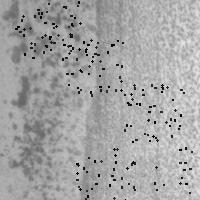pitted_surface: (97, 1, 199, 200), (8, 1, 91, 179), (63, 34, 122, 94), (124, 84, 183, 141), (22, 1, 79, 58), (15, 3, 71, 57), (76, 148, 134, 200), (154, 147, 200, 200)
